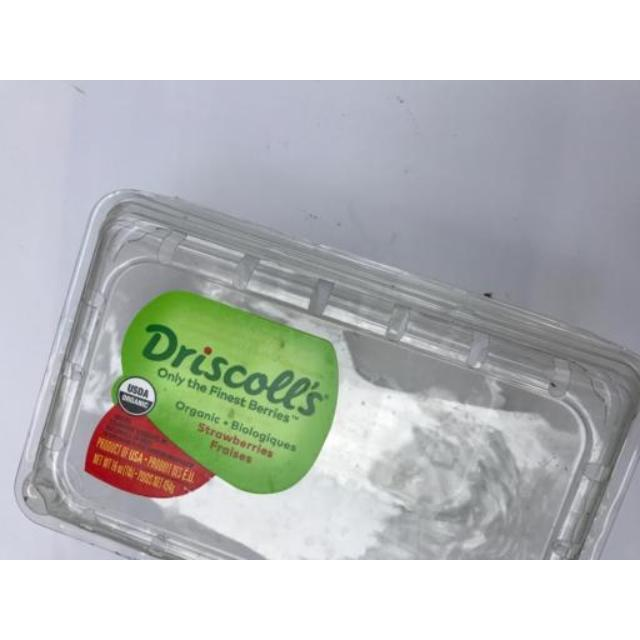plastic: (15, 190, 639, 558)
